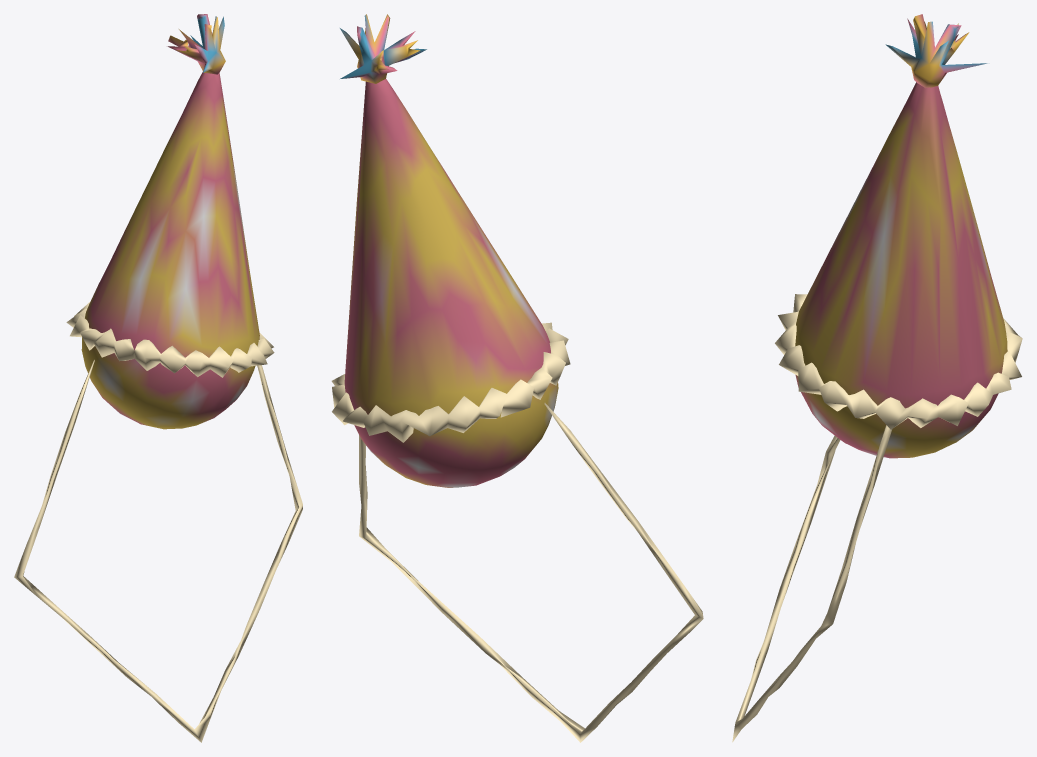
Rendered from nonsinhnhat.glb.
3 renders of one model, left to right at view 1: azimuth 30°, elevation 25°; view 2: azimuth 150°, elevation 25°; view 3: azimuth 270°, elevation 25°, orthographic. The views are drawn at different scales.
Parts seen in each view (by area): view 1: Non_SN, Day_Chun, Dien_Xep, Kim_Tuyen; view 2: Non_SN, Dien_Xep, Day_Chun, Kim_Tuyen; view 3: Non_SN, Dien_Xep, Day_Chun, Kim_Tuyen.
Boxes of the visible parts, <box> form: Non_SN: <box>81,72,259,429</box>; Day_Chun: <box>14,360,302,742</box>; Dien_Xep: <box>66,302,274,377</box>; Kim_Tuyen: <box>167,14,225,74</box>; Non_SN: <box>344,79,558,487</box>; Dien_Xep: <box>331,322,570,442</box>; Day_Chun: <box>359,403,703,742</box>; Kim_Tuyen: <box>340,14,426,83</box>; Non_SN: <box>795,82,1007,458</box>; Dien_Xep: <box>775,294,1022,429</box>; Day_Chun: <box>732,425,891,742</box>; Kim_Tuyen: <box>885,14,987,88</box>.
Bounding box in the file's own units: 0.1754 × 0.3743 × 0.1266.
